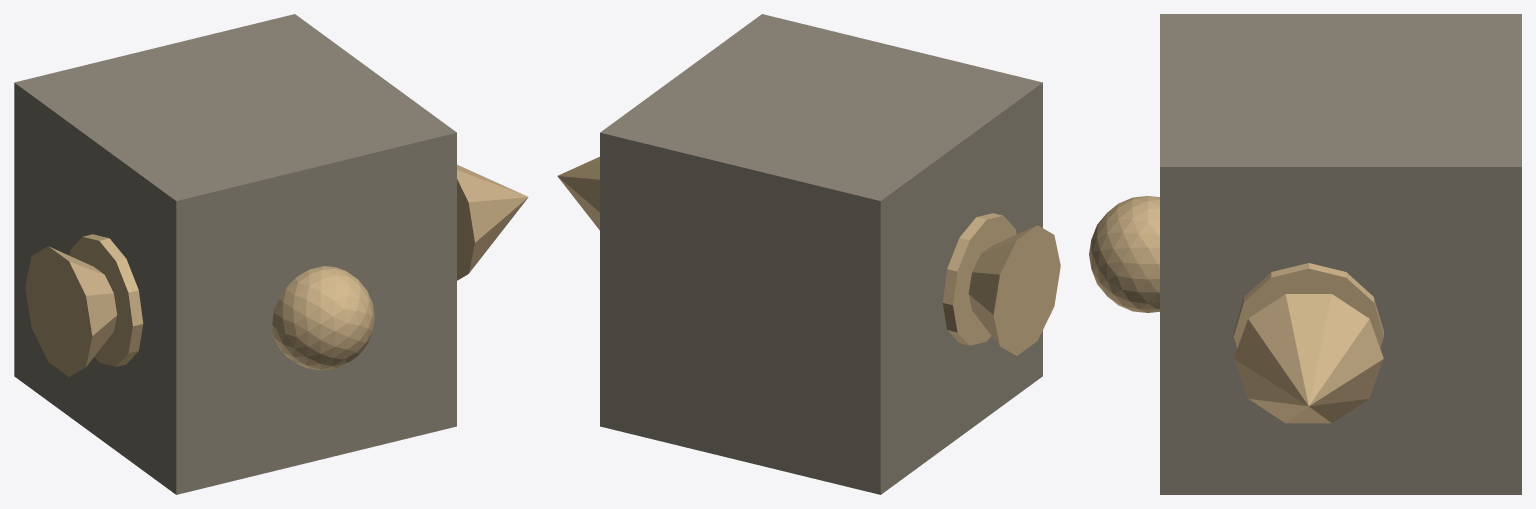
The model's file is zeppelin.glb.
The picture shows the model from 3 angles, left to right: view 1: azimuth 30°, elevation 25°; view 2: azimuth 150°, elevation 25°; view 3: azimuth 270°, elevation 25°; orthographic projection. The views are drawn at different scales.
Parts seen in each view (by area): view 1: world; view 2: world; view 3: world.
Part boxes in pixels (x1,y1,x2,y2): world: [14, 14, 528, 494]; world: [557, 14, 1060, 494]; world: [1089, 14, 1521, 494].
Size of the model in its own units: 2.26 by 1.35 by 1.62.
